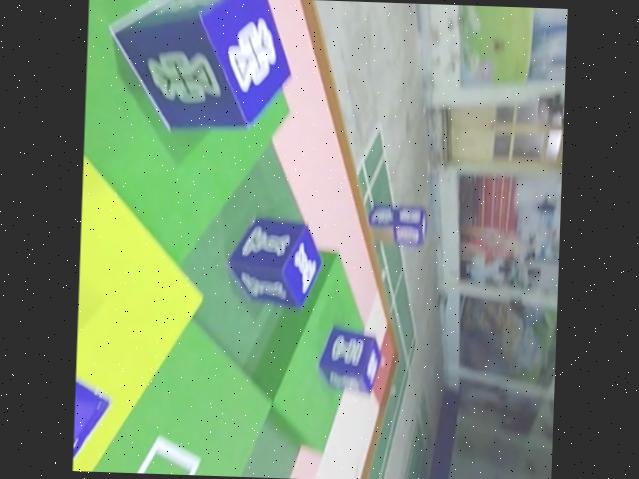R2 Real Blue: (105, 0, 293, 133), (223, 214, 322, 310), (314, 326, 380, 394)
